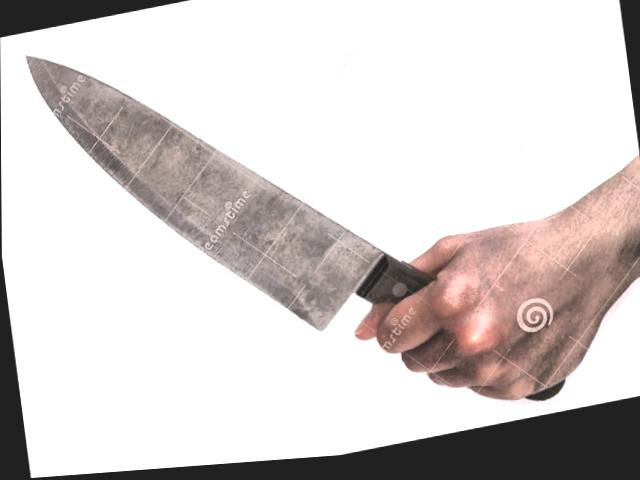knife: (18, 0, 468, 420)
